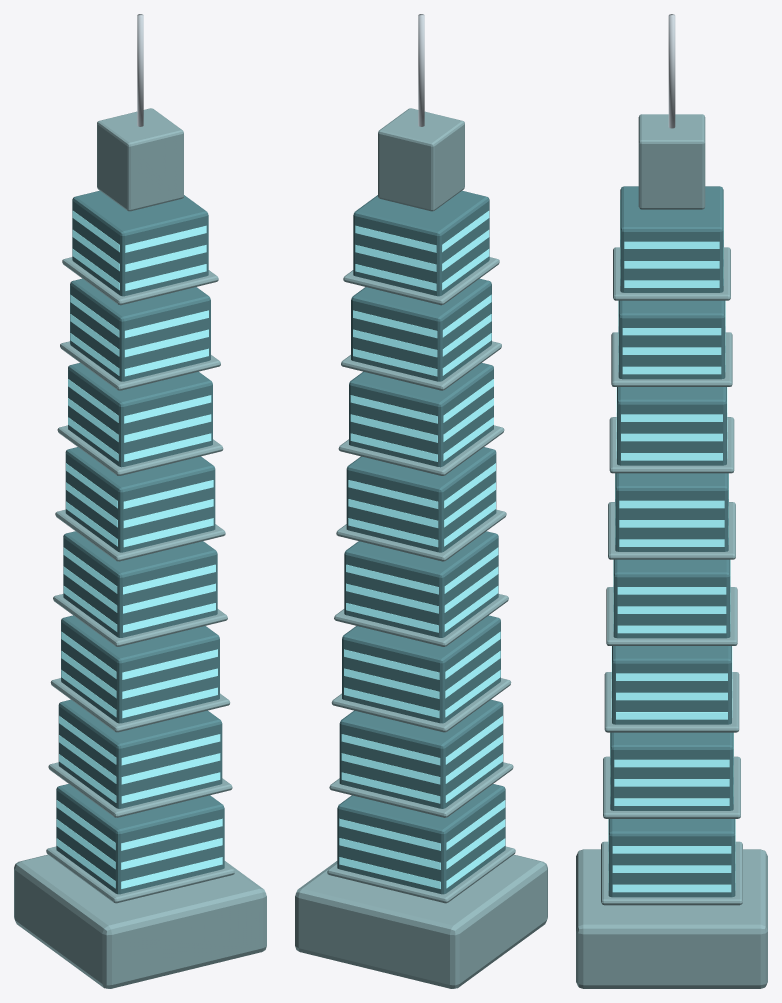
The model's file is city_tower.glb.
3 renders of one model, left to right at view 1: azimuth 30°, elevation 25°; view 2: azimuth 150°, elevation 25°; view 3: azimuth 270°, elevation 25°, orthographic.
Visible parts, largest first — view 1: TowerFacadeParts, TowerSilverParts, TowerWindowParts, AlloyParts.020; view 2: TowerFacadeParts, TowerSilverParts, TowerWindowParts, AlloyParts.020; view 3: TowerFacadeParts, TowerSilverParts, TowerWindowParts, AlloyParts.020.
Boxes of the visible parts, x1,y1,x2,y2 form: TowerFacadeParts: [56, 190, 224, 894]; TowerSilverParts: [14, 108, 266, 988]; TowerWindowParts: [56, 211, 222, 888]; AlloyParts.020: [137, 14, 143, 126]; TowerFacadeParts: [337, 190, 505, 894]; TowerSilverParts: [295, 108, 547, 988]; TowerWindowParts: [339, 211, 505, 888]; AlloyParts.020: [418, 14, 424, 126]; TowerFacadeParts: [608, 186, 735, 897]; TowerSilverParts: [576, 114, 767, 988]; TowerWindowParts: [608, 200, 735, 892]; AlloyParts.020: [668, 14, 675, 128].
Size of the model in its own units: 13 by 69.95 by 13.
